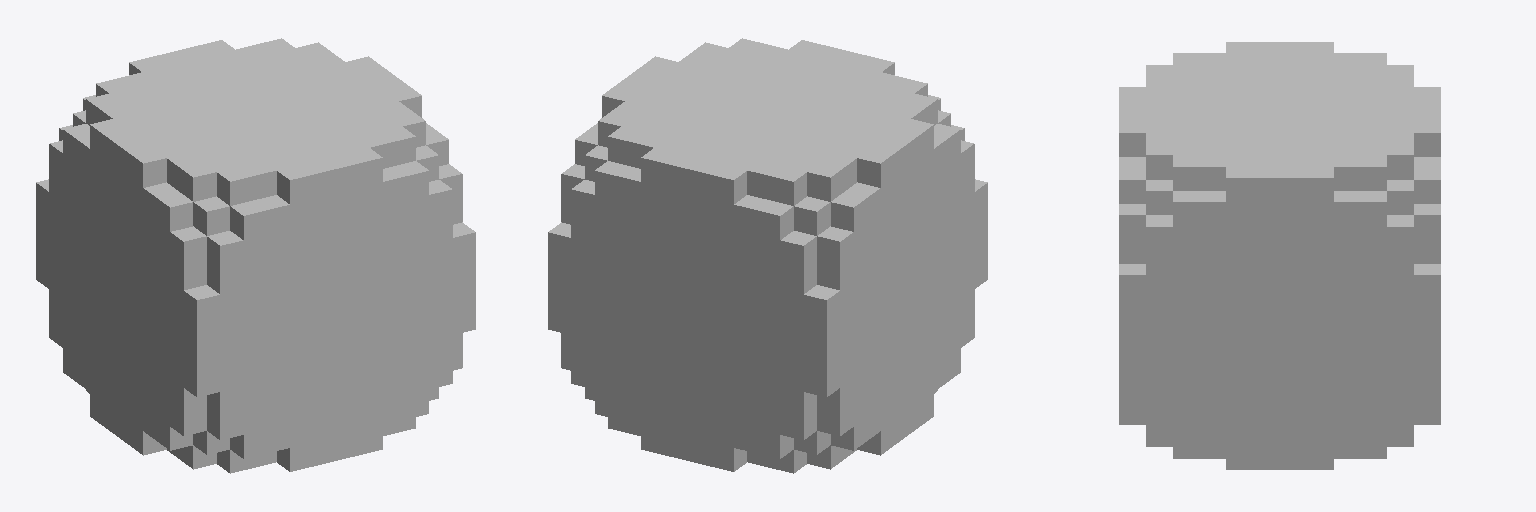
The model's file is normal.obj.
The picture shows the model from 3 angles: view 1: azimuth 30°, elevation 25°; view 2: azimuth 150°, elevation 25°; view 3: azimuth 270°, elevation 25°; orthographic projection.
Visible parts, largest first — view 1: object 1; view 2: object 1; view 3: object 1.
Part boxes in pixels (left/top/right/bottom): object 1: left=36, top=38, right=475, bottom=473; object 1: left=548, top=38, right=987, bottom=473; object 1: left=1119, top=42, right=1440, bottom=469.
Bounding box in the file's own units: 1.2 × 1.2 × 1.2.